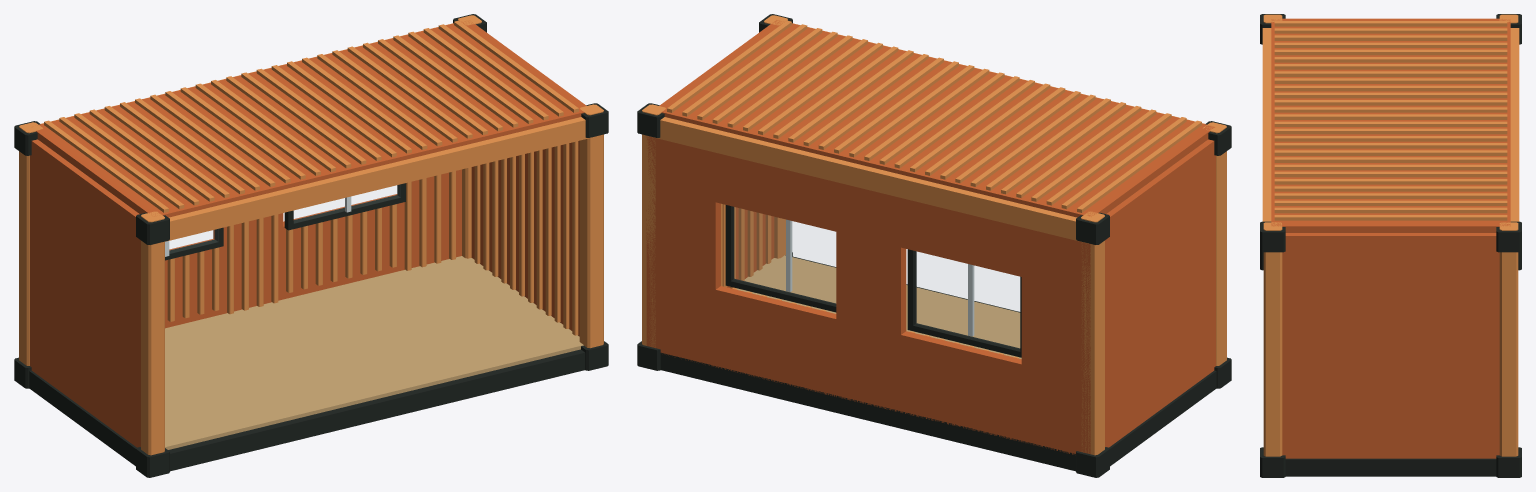
Rendered from gh_container_v01.glb.
3 views of the same model, side by side, from view 1: azimuth 30°, elevation 25°; view 2: azimuth 150°, elevation 25°; view 3: azimuth 270°, elevation 25° (orthographic). The views are drawn at different scales.
Parts seen in each view (by area): view 1: body, roof; view 2: body, roof; view 3: body, roof.
Part boxes in pixels (left/top/right/bottom): body: left=14, top=14, right=608, bottom=477; roof: left=36, top=20, right=586, bottom=217; body: left=637, top=14, right=1231, bottom=477; roof: left=659, top=20, right=1214, bottom=217; body: left=1260, top=14, right=1521, bottom=477; roof: left=1271, top=18, right=1510, bottom=232.
Bounding box in the file's own units: 6.08 × 3.24 × 3.08.
Materials: 2 (1 with a texture image).
